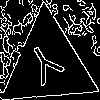Y: (22, 39, 71, 96)
